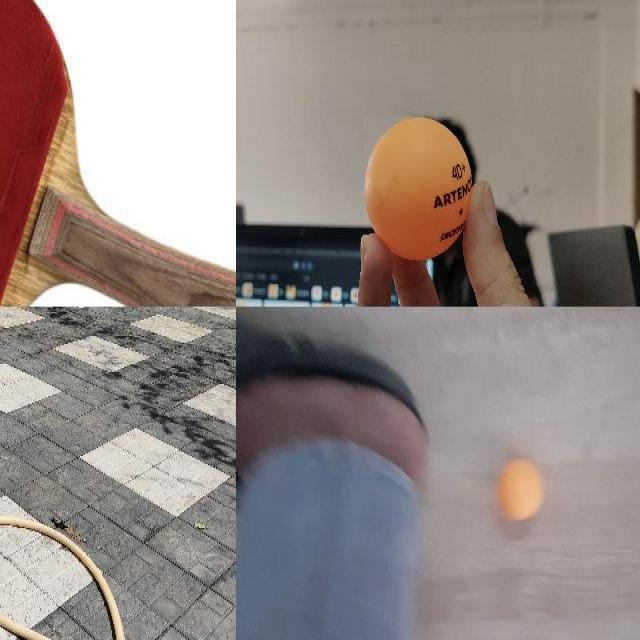ping-pong-ball: (364, 116, 470, 260), (495, 460, 543, 520)
